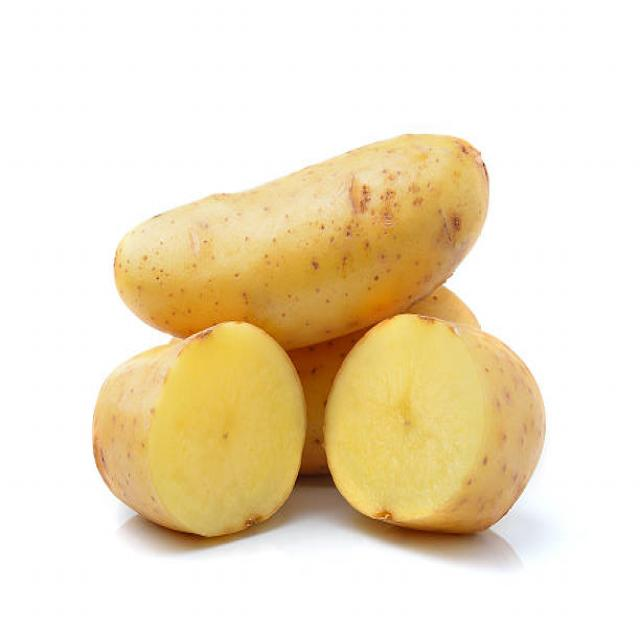potato: (106, 130, 494, 312), (324, 313, 550, 542), (87, 319, 303, 536)
